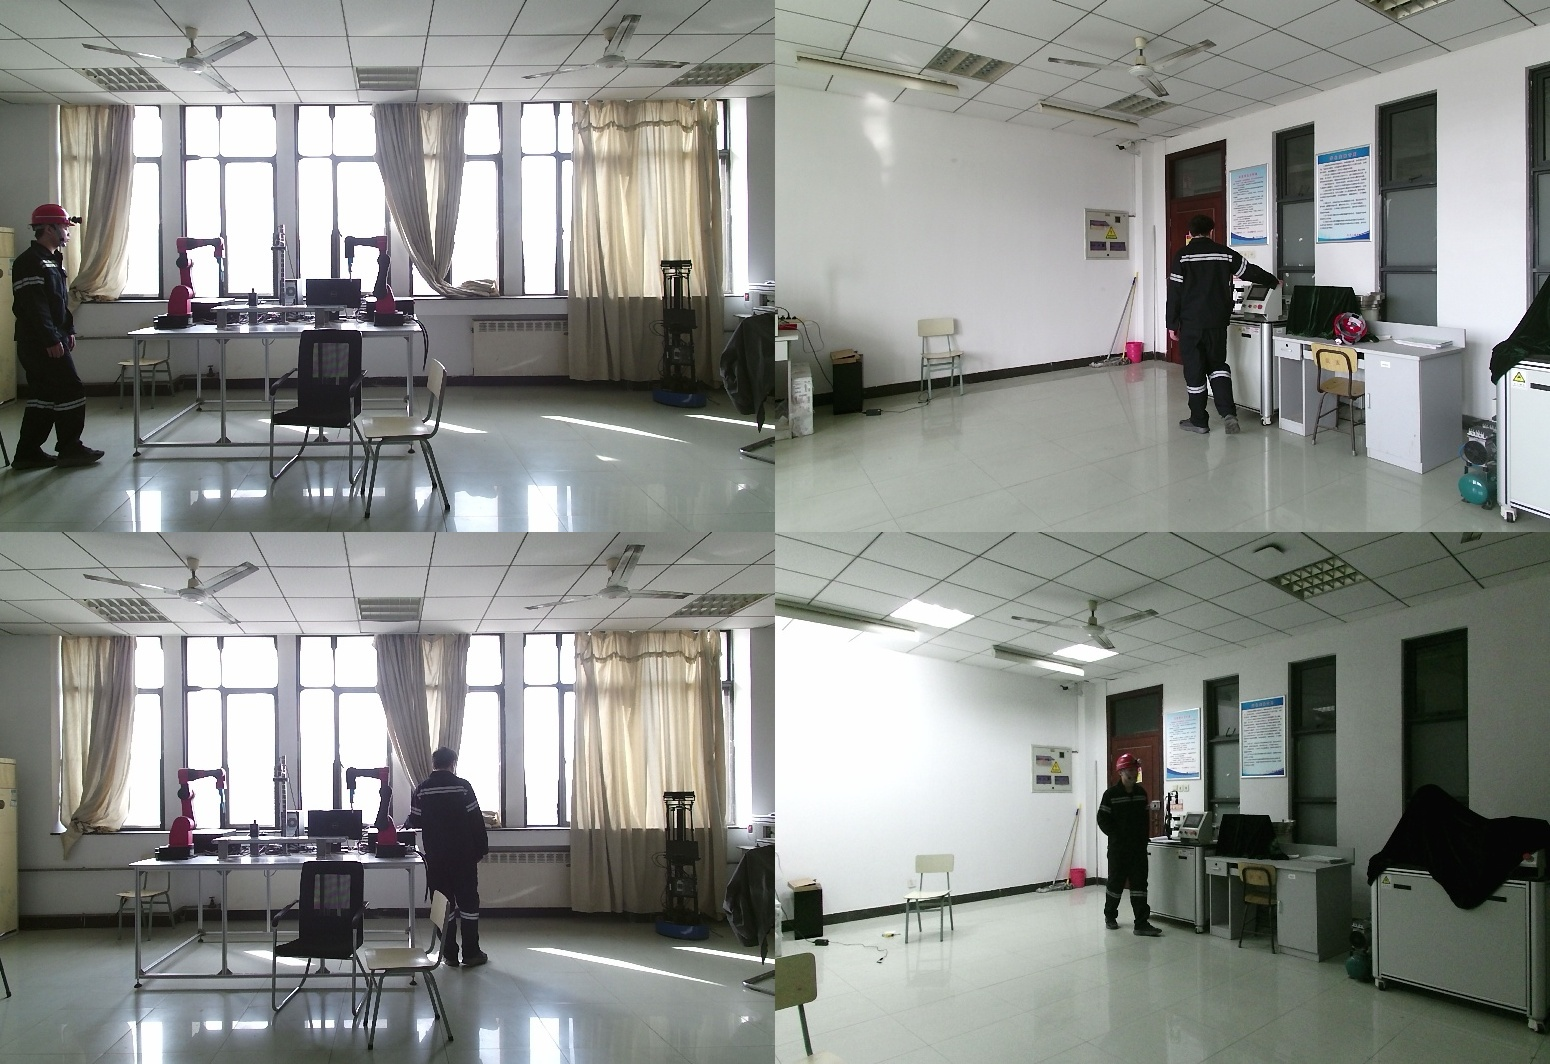person: (7, 204, 114, 468), (1176, 217, 1282, 435), (403, 746, 495, 969), (1085, 757, 1165, 941)
